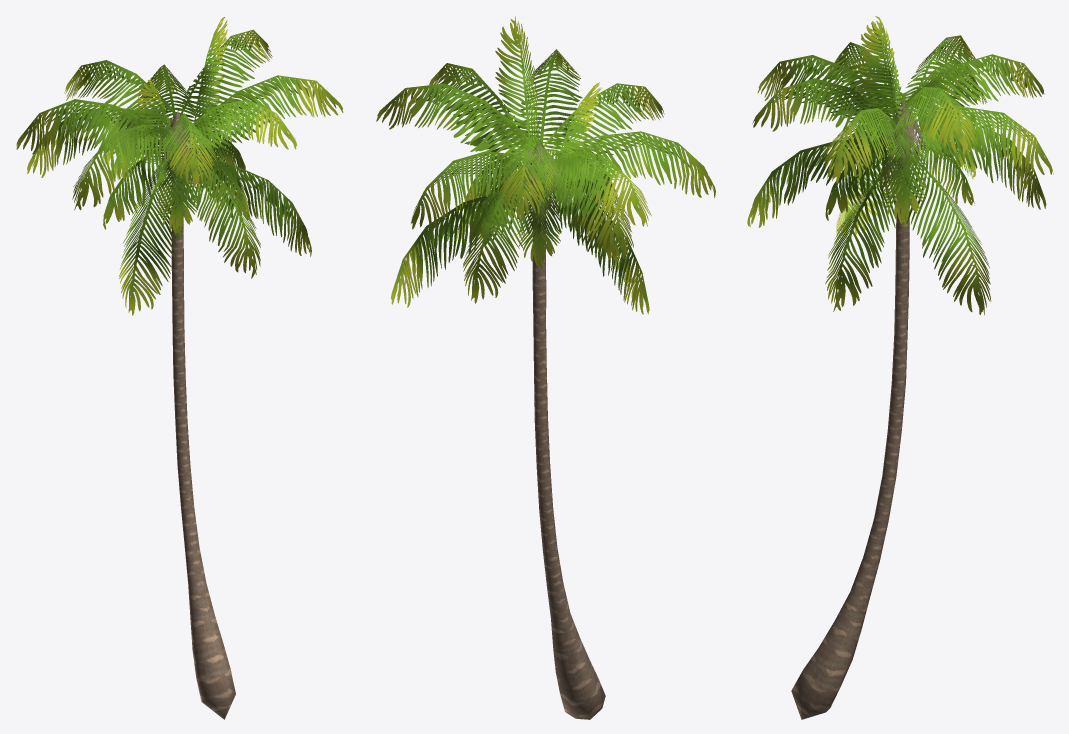
The model's file is Coconut4.fbx.
3 views of the same model, side by side, from view 1: azimuth 30°, elevation 25°; view 2: azimuth 150°, elevation 25°; view 3: azimuth 270°, elevation 25° (orthographic). The views are drawn at different scales.
Parts seen in each view (by area): view 1: Coconut6_LOD0; view 2: Coconut6_LOD0; view 3: Coconut6_LOD0.
Boxes of the visible parts, x1,y1,x2,y2 form: Coconut6_LOD0: (16, 17, 343, 719); Coconut6_LOD0: (376, 16, 715, 719); Coconut6_LOD0: (747, 16, 1053, 719).
Bounding box in the file's own units: 734 × 1743 × 673.
